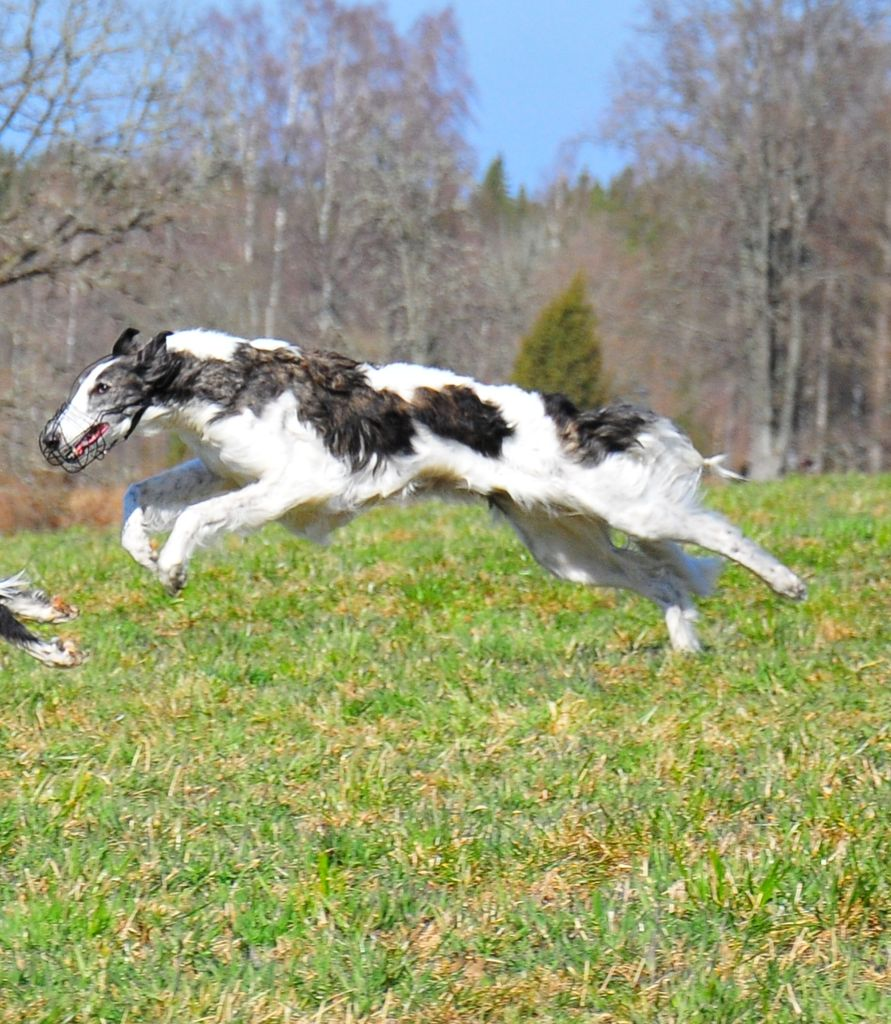borzoi: (32, 317, 829, 674)
